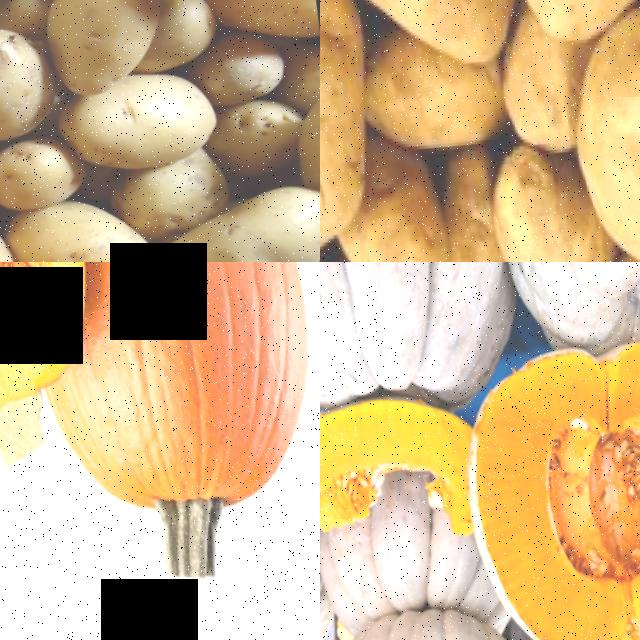potato: (320, 0, 414, 259), (550, 0, 640, 262), (139, 143, 320, 262), (320, 0, 542, 91), (67, 56, 228, 177), (481, 123, 620, 262), (349, 139, 474, 262), (18, 173, 172, 262), (37, 0, 174, 93), (0, 6, 68, 145)
pumpkin: (40, 262, 320, 539), (441, 292, 640, 640), (320, 363, 506, 590), (320, 262, 555, 438), (0, 262, 131, 455), (492, 262, 640, 370)
